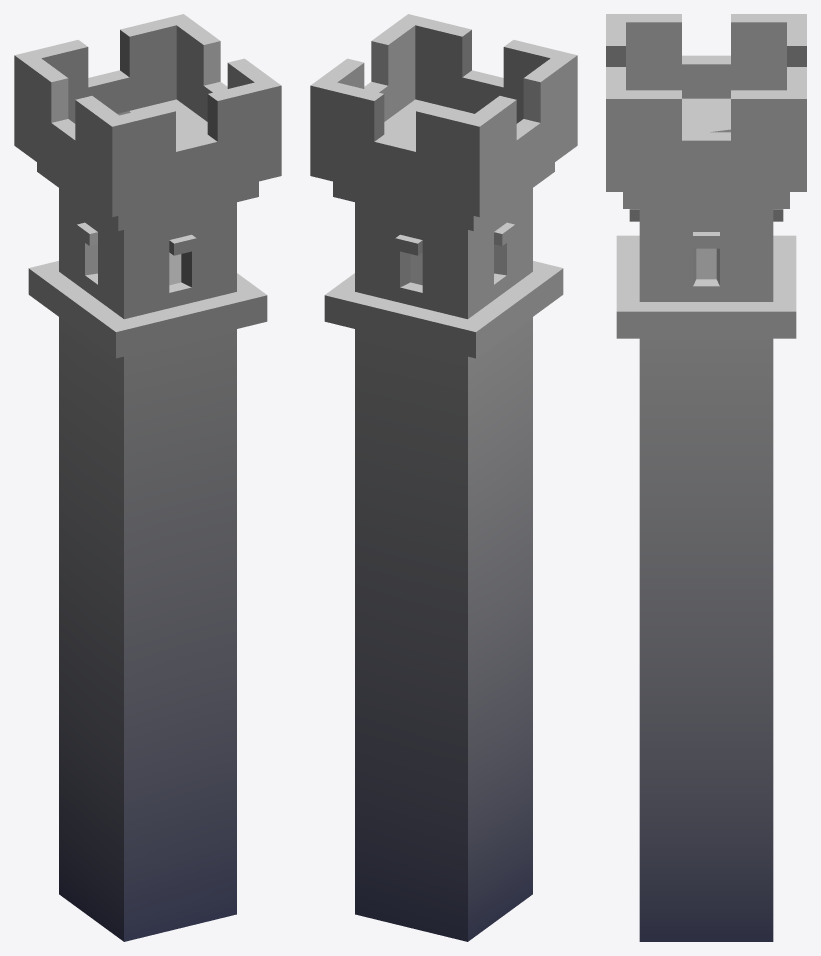
File: decoration_castletower02.fbx
3 views of the same model, side by side, from view 1: azimuth 30°, elevation 25°; view 2: azimuth 150°, elevation 25°; view 3: azimuth 270°, elevation 25° (orthographic). The views are drawn at different scales.
Parts seen in each view (by area): view 1: tower1; view 2: tower1; view 3: tower1.
Part boxes in pixels (x1,y1,x2,y2): tower1: [14, 14, 281, 941]; tower1: [310, 14, 577, 941]; tower1: [606, 14, 806, 941].
Bounding box in the file's own units: 600 × 2825 × 600.
